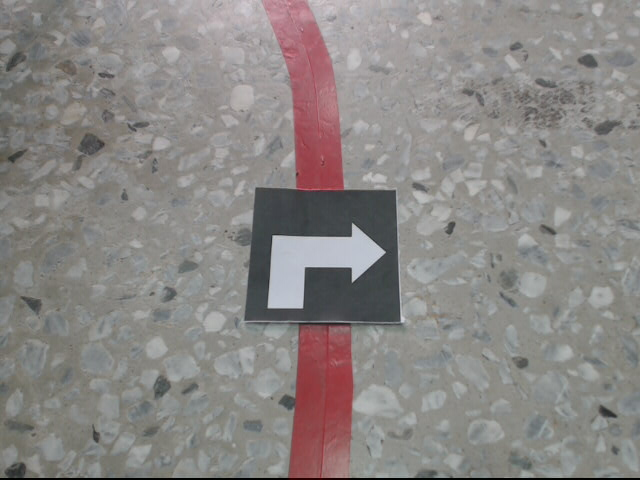right: (245, 188, 403, 323)
